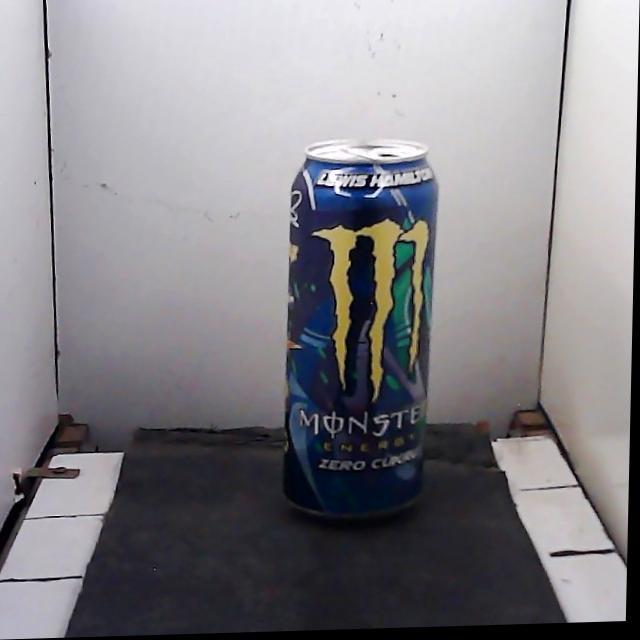metal: (284, 140, 437, 516)
